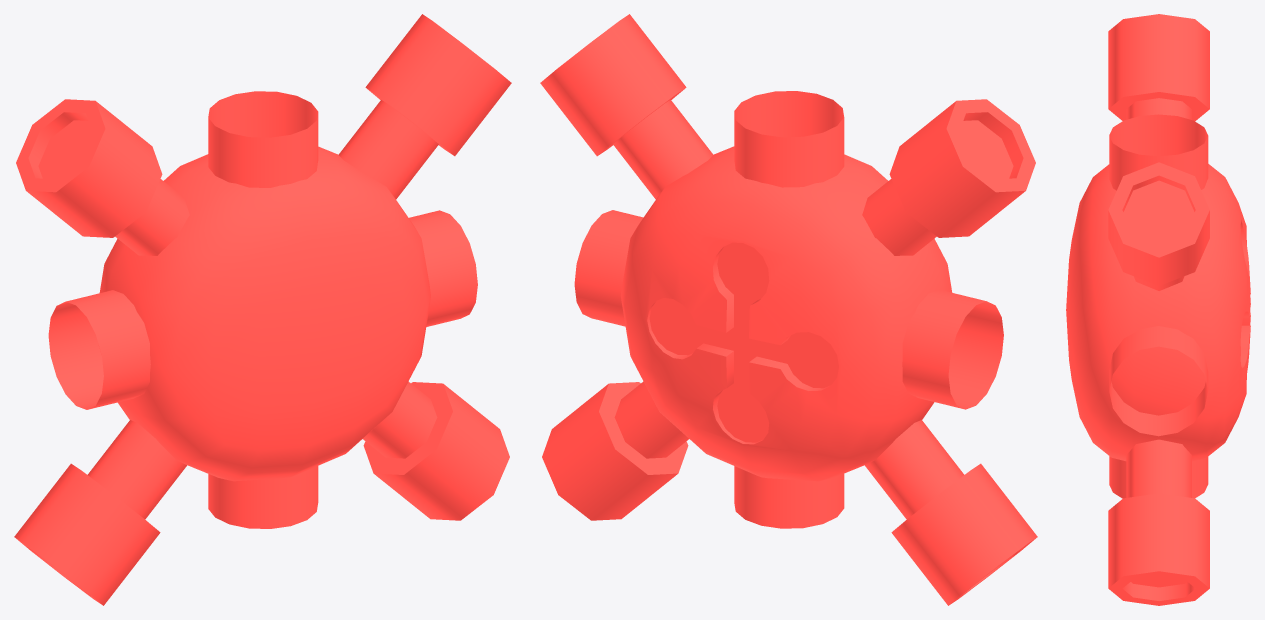
The model's file is SM_DroneCore.fbx.
3 renders of one model, left to right at view 1: azimuth 30°, elevation 25°; view 2: azimuth 150°, elevation 25°; view 3: azimuth 270°, elevation 25°, orthographic. The views are drawn at different scales.
Visible parts, largest first — view 1: Core; view 2: Core; view 3: Core.
Part boxes in pixels (left/top/right/bottom): Core: left=14, top=14, right=511, bottom=605; Core: left=540, top=14, right=1037, bottom=605; Core: left=1066, top=14, right=1250, bottom=605.
Bounding box in the file's own units: 0.9909 × 0.9909 × 0.3719.
